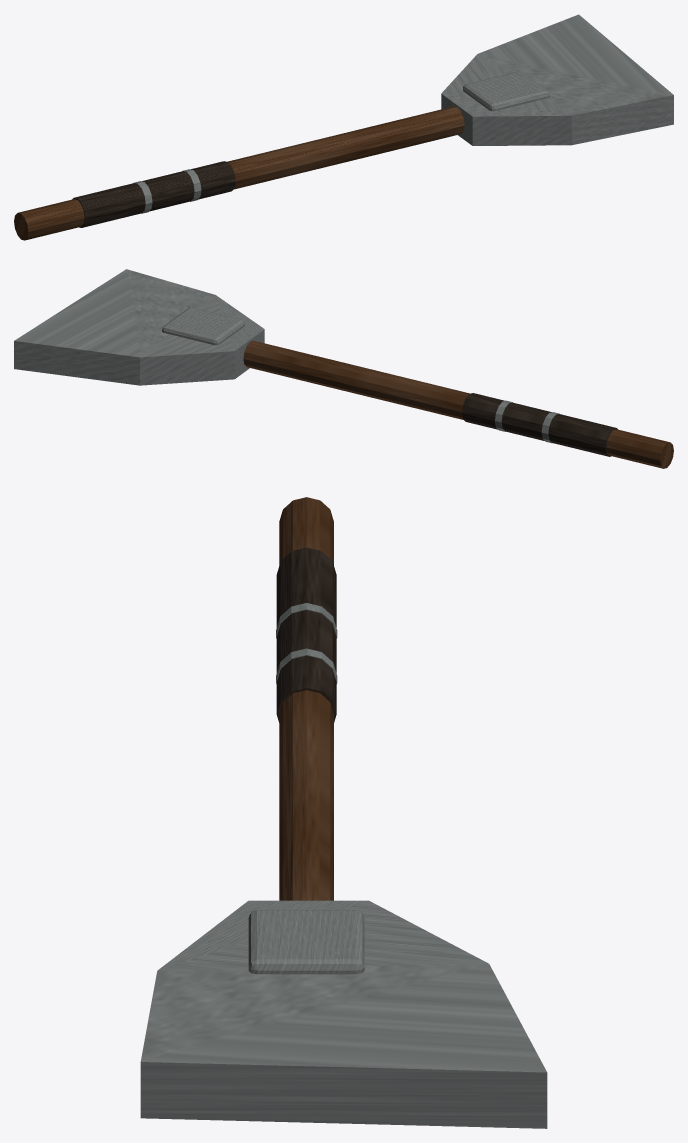
The model's file is weapon-axe.glb.
3 views of the same model, one above another, from view 1: azimuth 30°, elevation 25°; view 2: azimuth 150°, elevation 25°; view 3: azimuth 270°, elevation 25° (orthographic). The views are drawn at different scales.
Parts seen in each view (by area): view 1: weapon_axe; view 2: weapon_axe; view 3: weapon_axe.
Boxes of the visible parts, x1,y1,x2,y2 form: weapon_axe: (14, 14, 673, 240); weapon_axe: (14, 269, 673, 468); weapon_axe: (140, 497, 547, 1128).
Bounding box in the file's own units: 1.65 × 0.105 × 0.49.
1 material, 1 textured.
